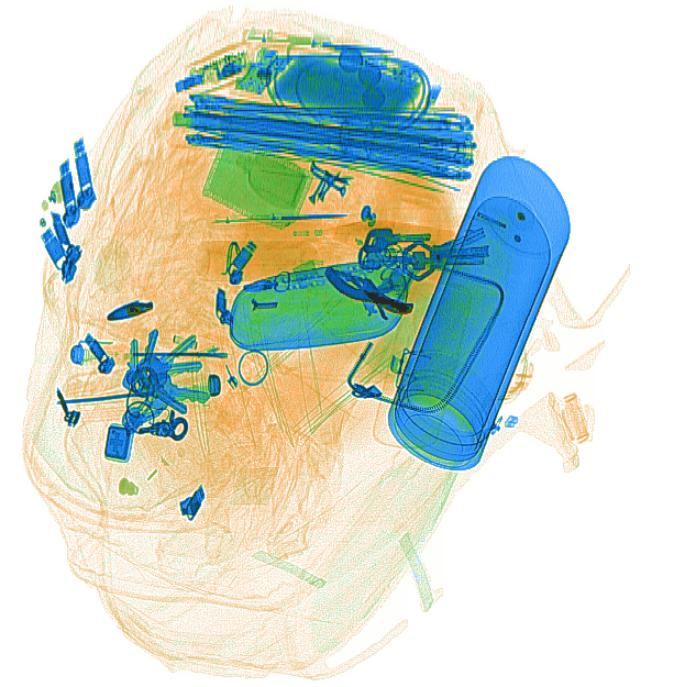plasticBottleWithaNozzle: (193, 238, 363, 285), (234, 214, 365, 258)
